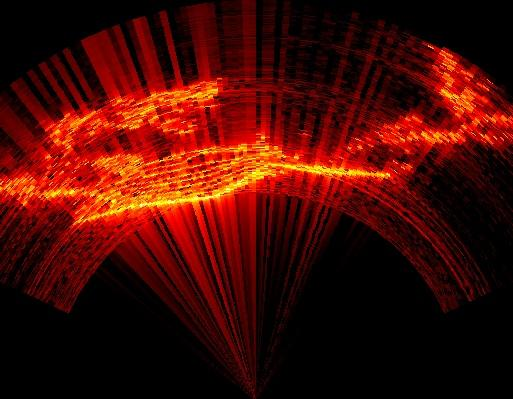shipwreck: (0, 138, 413, 225), (377, 51, 512, 148), (50, 82, 217, 155)
